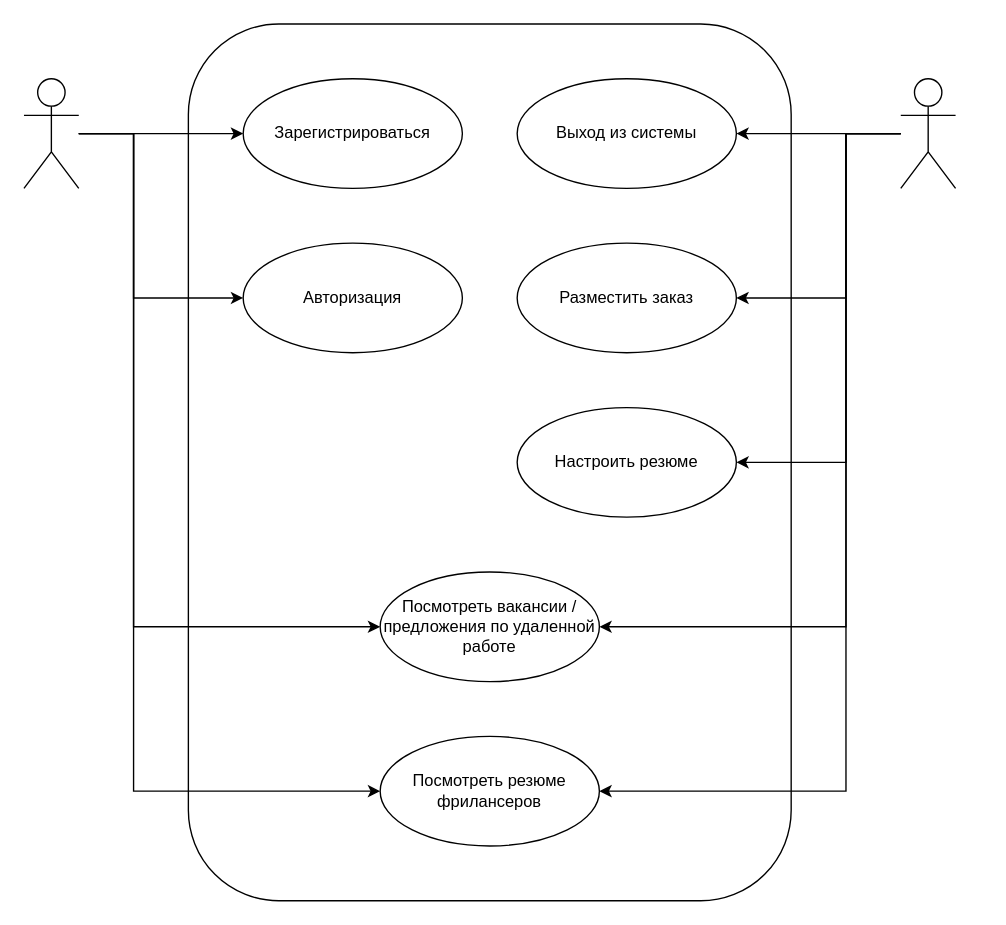
This 1006x925 diagram has some shape labels left out. Each missing label, with the box of its shape:
Гость: (23, 77, 79, 188)
Пользователь в системе: (899, 77, 956, 188)
